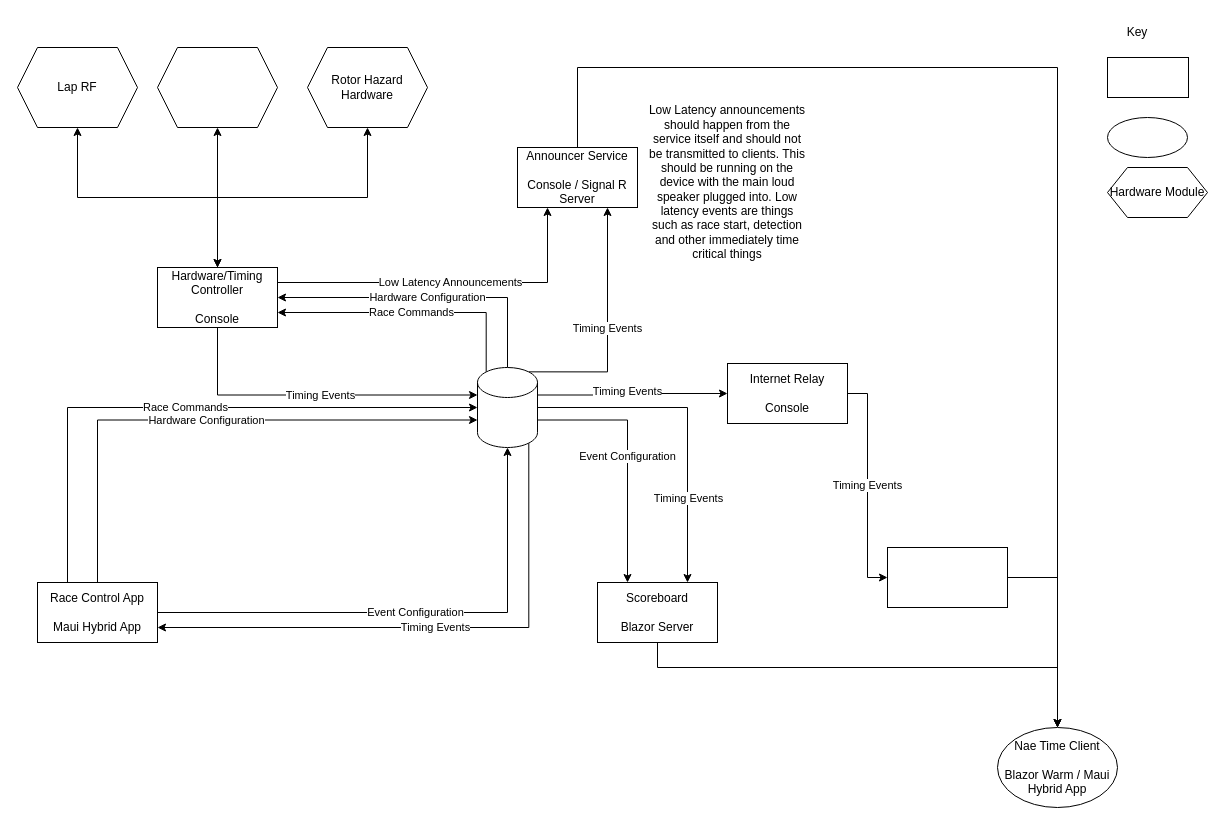
Some shapes in this 1225 by 825 pixel diagram are drawn without their labels. Here are the shapes that lost their labels. From the top down, the centre of each, then its label:
the point at 217,87: Nae Time Hardware
the point at 1147,77: Services
the point at 1147,137: Service Clients
the point at 507,407: Event Store
the point at 947,577: Offsite Service ASP NET WEB API
